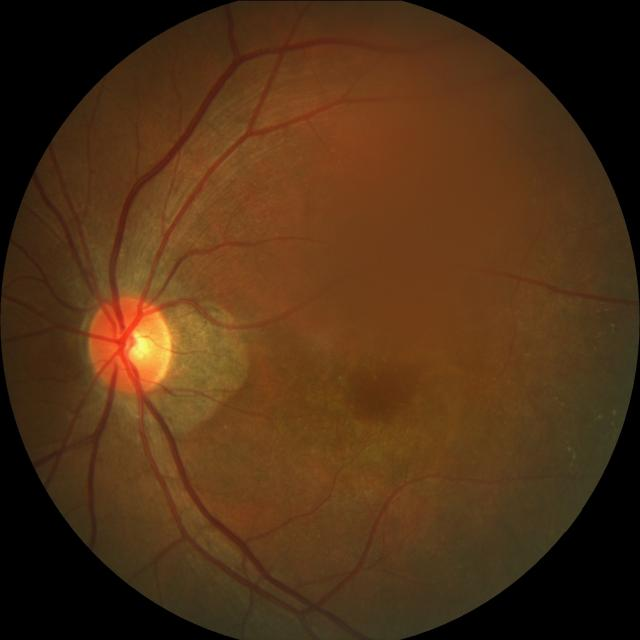OC: (115, 326, 152, 364)
OD: (86, 294, 171, 393)
